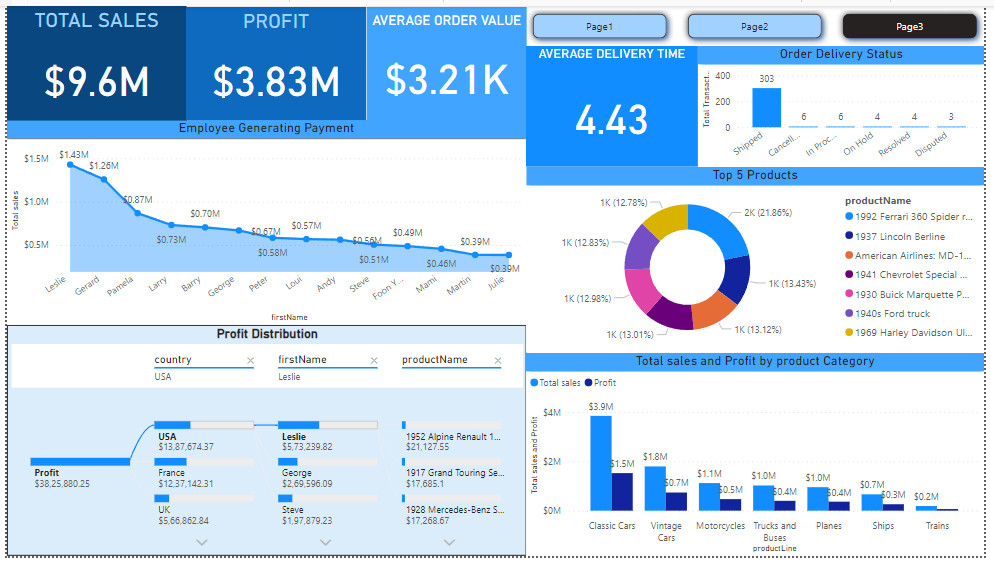

The dashboard page shown, as its layout file describes it:
{"tool":"powerbi","page":{"name":"Page3","canvas":[1280,720],"ordinal":2},"visuals":[{"type":"decompositionTreeVisual","title":"Profit Distribution","fields":{"Analyze":["orderdetails.Profit"],"ExplainBy":["offices.country","employees.firstName","products.productName"]},"box":[0,417.6,679.7,302.4],"z":0},{"type":"pageNavigator","box":[679.5,1.4,600.5,50.4],"z":1000},{"type":"clusteredColumnChart","title":"Order Delivery Status ","fields":{"Category":["orderes.status"],"Y":["orderes.Total Transactions"]},"box":[904.3,51.8,375.8,158.4],"z":2000},{"type":"clusteredColumnChart","title":"Total sales and Profit by product Category","fields":{"Category":["products.productLine"],"Y":["orderdetails.Total sales","orderdetails.Profit"]},"box":[679.7,453.6,600.5,266.4],"z":3000},{"type":"donutChart","title":"Top 5 Products","fields":{"Category":["products.productName"],"Y":["orderdetails.quantityOrdered"]},"box":[679.7,210.2,600.5,243.4],"z":4000},{"type":"areaChart","title":"Employee Generating Payment","fields":{"Category":["employees.firstName"],"Y":["orderdetails.Total sales"]},"box":[0,149.8,679.7,267.8],"z":5000},{"type":"card","title":"TOTAL SALES","fields":{"Values":["orderdetails.totalQxpe"]},"box":[0,0,234.7,149.8],"z":6000},{"type":"card","title":"PROFIT","fields":{"Values":["orderdetails.Profit"]},"box":[234.7,1.4,236.2,148.3],"z":7000},{"type":"card","title":"AVERAGE ORDER VALUE","fields":{"Values":["orderes.average order value"]},"box":[470.9,1.4,208.8,148.3],"z":8000},{"type":"card","title":"AVERAGE DELIVERY TIME","fields":{"Values":["orderes.avg delivery  time"]},"box":[679.7,51.8,224.6,158.4],"z":9000}]}

Visuals, with their boxes in screenshot pixels (x1, y1, x2, y2), scaled from the page's 1280x720 canvas onto the 994x562 screenshot:
"Profit Distribution" decompositionTreeVisual: BBox(0, 326, 528, 561)
pageNavigator: BBox(528, 1, 993, 40)
"Order Delivery Status " clusteredColumnChart: BBox(702, 40, 993, 164)
"Total sales and Profit by product Category" clusteredColumnChart: BBox(528, 354, 993, 561)
"Top 5 Products" donutChart: BBox(528, 164, 993, 354)
"Employee Generating Payment" areaChart: BBox(0, 117, 528, 326)
"TOTAL SALES" card: BBox(0, 0, 182, 117)
"PROFIT" card: BBox(182, 1, 366, 117)
"AVERAGE ORDER VALUE" card: BBox(366, 1, 528, 117)
"AVERAGE DELIVERY TIME" card: BBox(528, 40, 702, 164)
